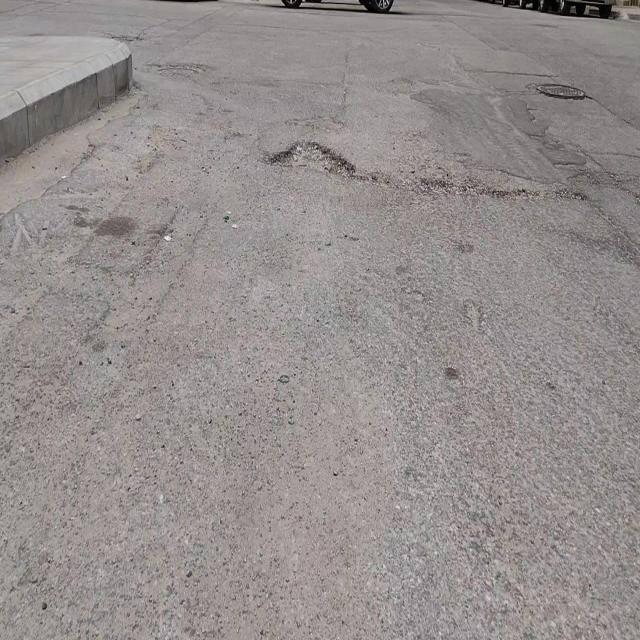Pothole: (267, 134, 356, 177)
